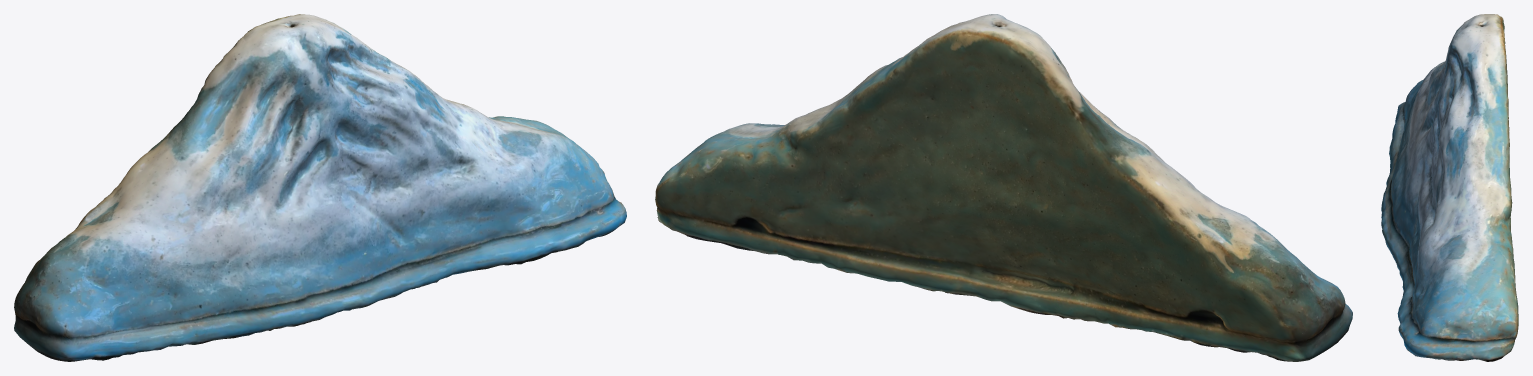
Rendered from volcano.glb.
3 views of the same model, side by side, from view 1: azimuth 30°, elevation 25°; view 2: azimuth 150°, elevation 25°; view 3: azimuth 270°, elevation 25° (orthographic). The views are drawn at different scales.
Size of the model in its own units: 0.2922 by 0.1207 by 0.0689.
Materials: 1 (1 with a texture image).
